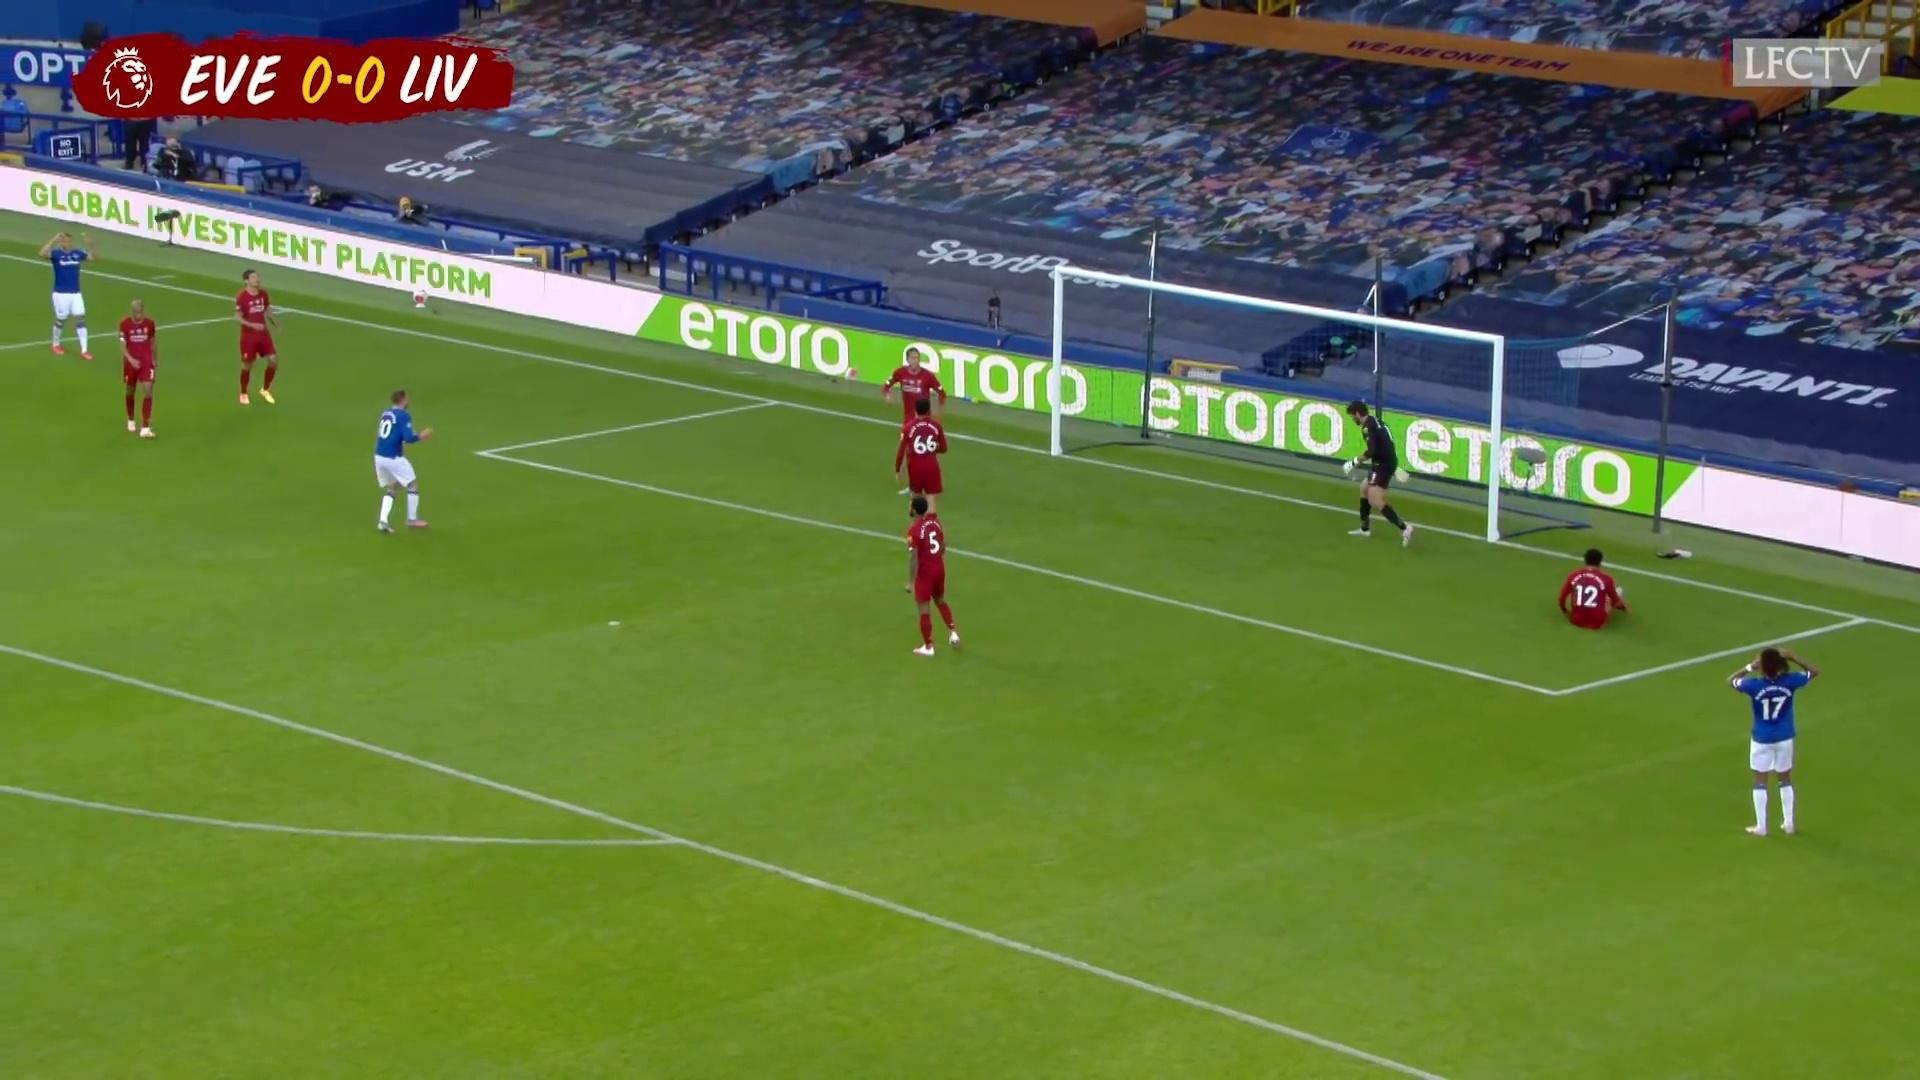ball: (411, 285, 431, 309), (845, 364, 863, 385)
goalkeeper: (1342, 398, 1421, 549)
player: (1717, 642, 1820, 845), (899, 499, 970, 662), (878, 348, 951, 492), (372, 385, 440, 537), (891, 395, 952, 563), (225, 267, 287, 413), (38, 228, 103, 365), (1552, 545, 1634, 642), (113, 297, 166, 443)
